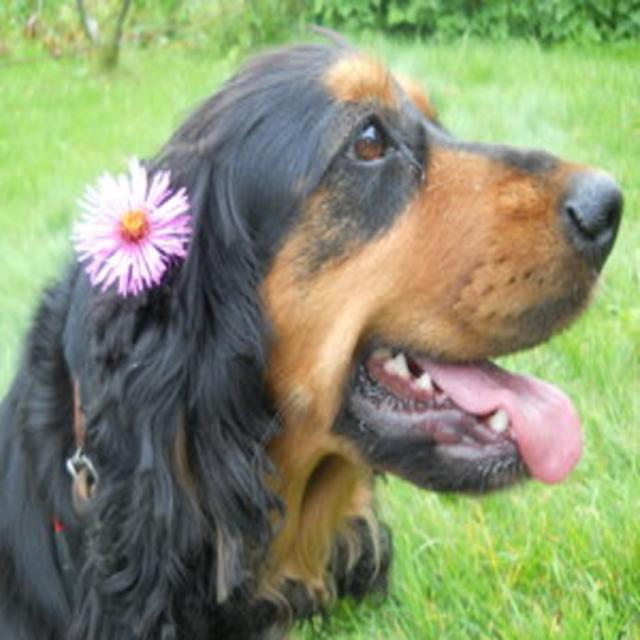Dog: (0, 13, 622, 636)
